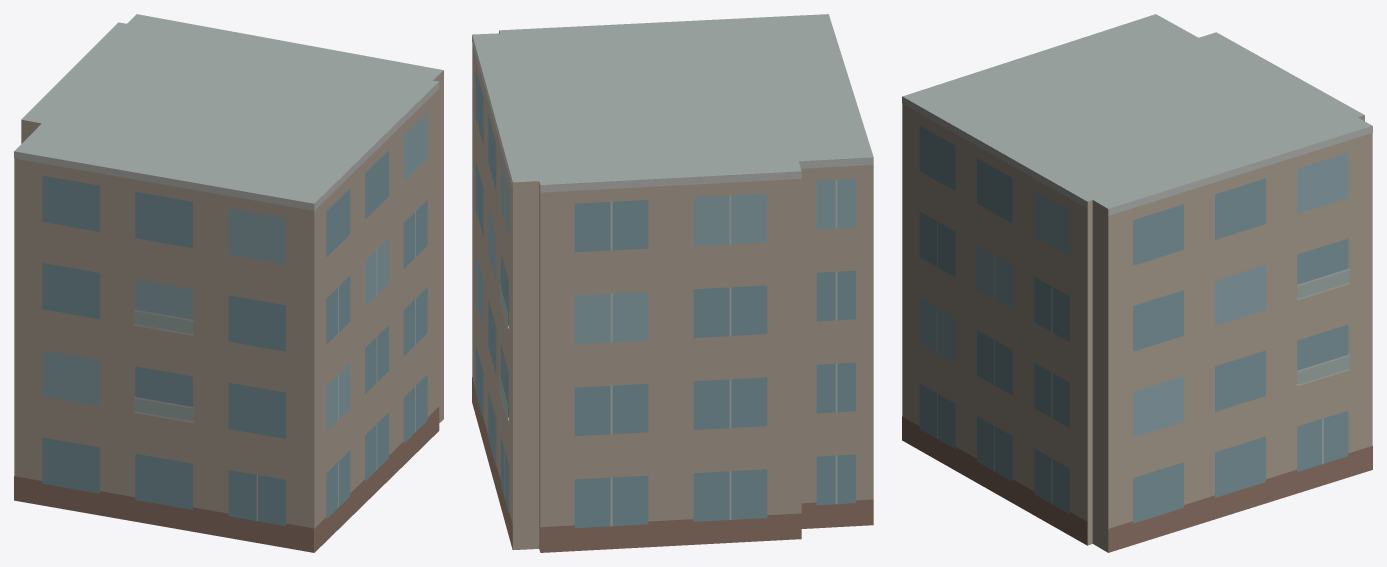
File: survey-upis-32747586.glb
3 views of the same model, side by side, from view 1: azimuth 30°, elevation 25°; view 2: azimuth 150°, elevation 25°; view 3: azimuth 270°, elevation 25° (orthographic). The views are drawn at different scales.
Parts seen in each view (by area): view 1: survey-upis-32747586.tmp; view 2: survey-upis-32747586.tmp; view 3: survey-upis-32747586.tmp.
Boxes of the visible parts, left/top/right/bottom form: survey-upis-32747586.tmp: left=14, top=14, right=443, bottom=552; survey-upis-32747586.tmp: left=472, top=14, right=873, bottom=552; survey-upis-32747586.tmp: left=902, top=14, right=1372, bottom=552.
Size of the model in its own units: 14.53 by 11.95 by 14.82.
